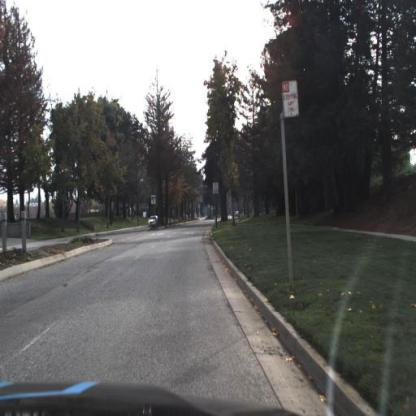car: (146, 211, 160, 230)
